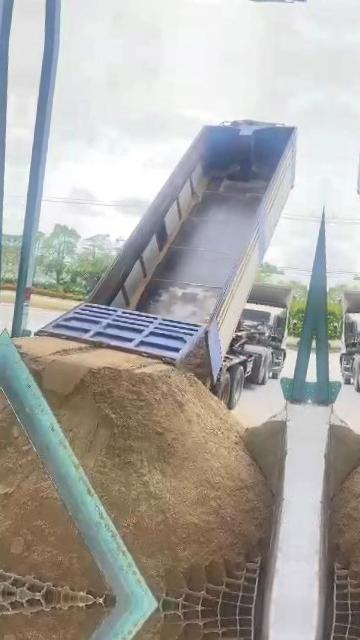sand: (19, 337, 269, 588), (0, 398, 104, 589), (244, 412, 285, 504)
